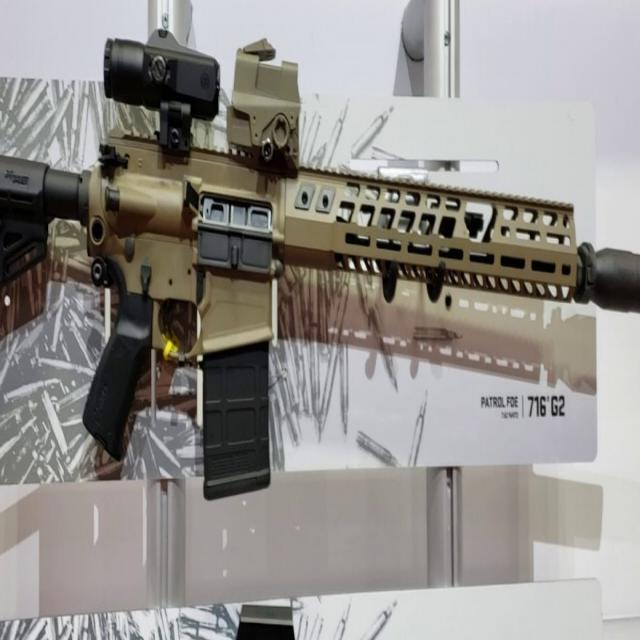rifle: (3, 122, 640, 514)
scope: (97, 21, 224, 135), (227, 39, 304, 161)
